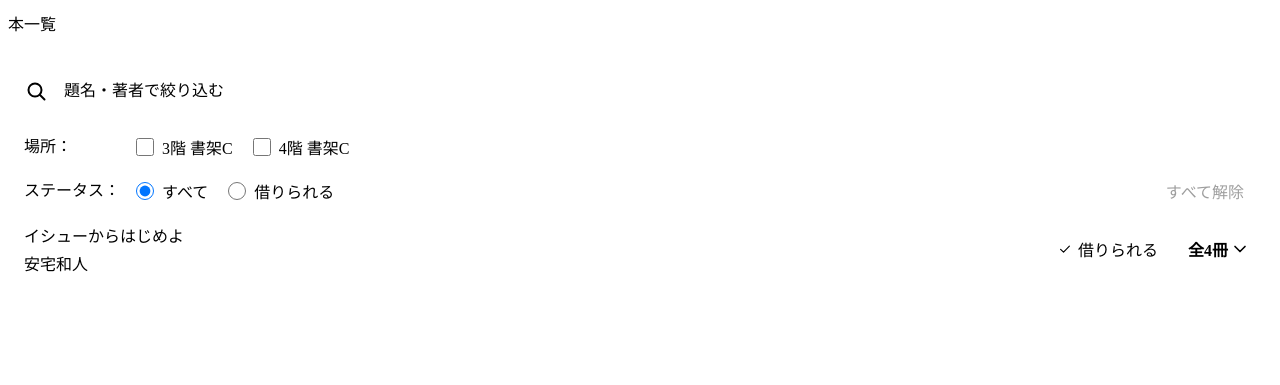
Test case: BookListPage の置き場所ごとの行 › SB-56: 同じ置き場所の本が全て持ち出し禁止のときだけ「持ち出し禁止」を出す
Click the button "イシューからはじめよ 安宅和人 借りられる 全4冊" at (104, 236), box [8,211,1272,287]
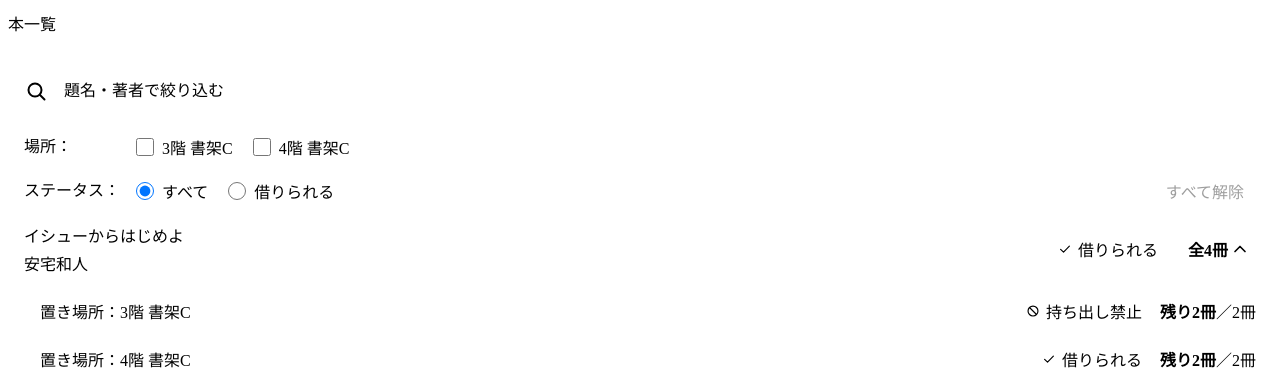
Expected: the text "持ち出し禁止" is shown, [1016,299,1152,323]
